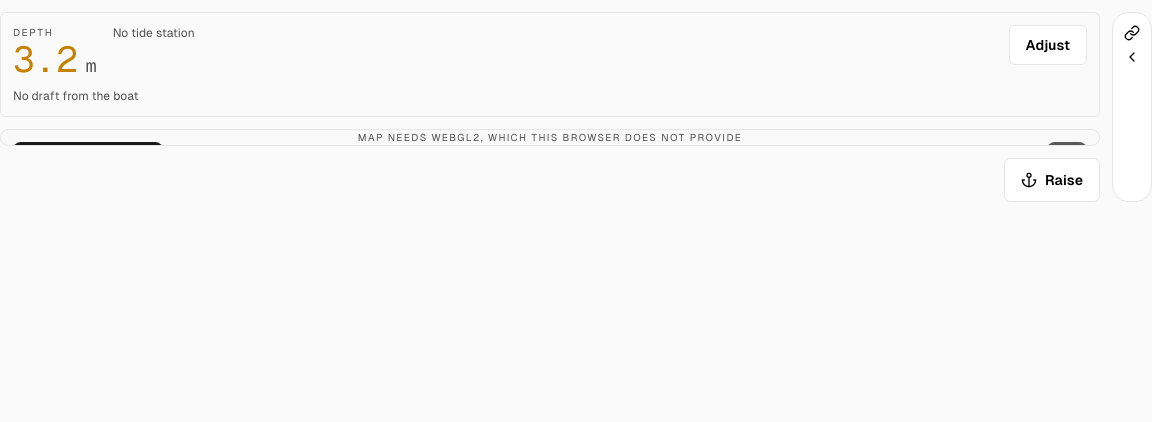
Test case: AnchorWatchDrawer Adjust mode — radius toolbar and disabled reasons › clamps a committed radius above the maximum on entry and says the original was above it
Click the button "Adjust" at (1048, 45), box [1009,25,1087,65]
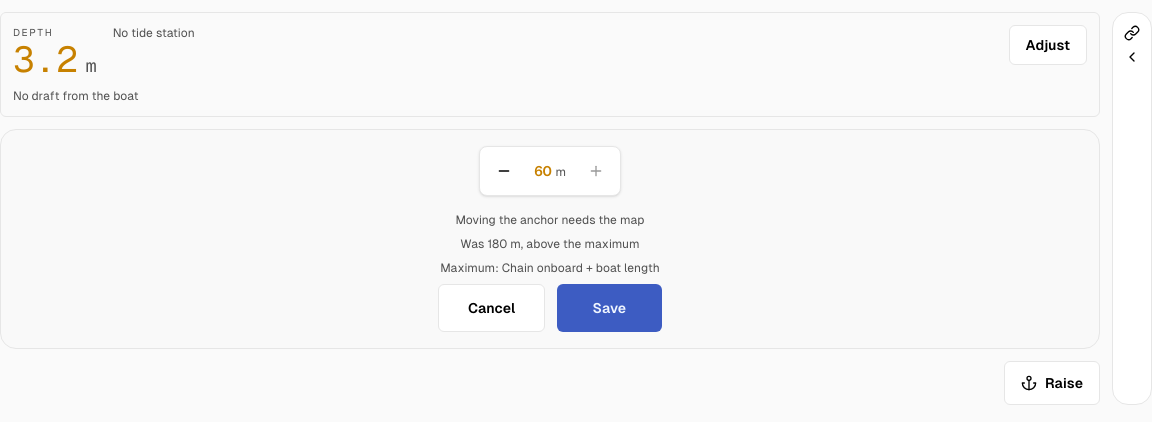
Expected: the text with test id "anchor-adjust-radius-value" reads "60", [534,163,552,179]
Expected: the text "Was 180 m, above the maximum" is shown, [460,236,640,252]
